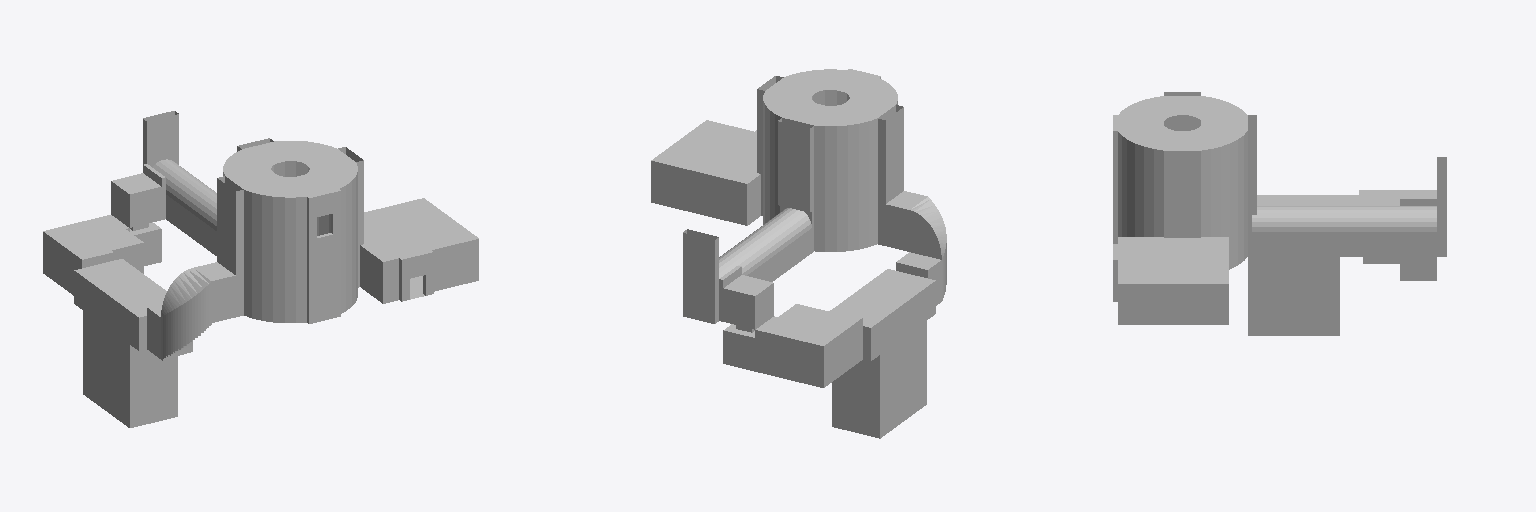
File: WellLayout.obj
The picture shows the model from 3 angles: view 1: azimuth 30°, elevation 25°; view 2: azimuth 150°, elevation 25°; view 3: azimuth 270°, elevation 25°; orthographic projection.
Parts seen in each view (by area): view 1: well_circleroom:pDisc1, well_platformingroom:pCube1, well_chessroom:pPlane1, well_stairroom:pDisc3, well_mirrorroom:pPlane1, well_pitfallroom:pPlane1, pCube1, pCube3, pCube5, gate7, gate2, pCylinder3 (+3 smaller); view 2: well_circleroom:pDisc1, well_platformingroom:pCube1, well_chessroom:pPlane1, well_mirrorroom:pPlane1, well_stairroom:pDisc3, well_pitfallroom:pPlane1, pCube2, pCube5, pCube3, well_corridor_straight:pCylinder1, pCylinder1, pCylinder2 (+2 smaller); view 3: well_circleroom:pDisc1, well_chessroom:pPlane1, well_platformingroom:pCube1, pCube4, pCylinder1, pCylinder2, pCylinder3, well_corridor_corner:pCylinder1, well_corridor_straight:pCylinder1, well_pitfallroom:pPlane1, pCube5, pCube2 (+2 smaller).
Boxes of the visible parts, x1=… form: well_circleroom:pDisc1: x1=223, y1=141, x2=357, y2=322; well_platformingroom:pCube1: x1=74, y1=259, x2=177, y2=427; well_chessroom:pPlane1: x1=360, y1=198, x2=478, y2=303; well_stairroom:pDisc3: x1=149, y1=262, x2=239, y2=360; well_mirrorroom:pPlane1: x1=43, y1=216, x2=143, y2=295; well_pitfallroom:pPlane1: x1=111, y1=173, x2=161, y2=265; pCube1: x1=307, y1=233, x2=340, y2=323; pCube3: x1=217, y1=176, x2=243, y2=274; pCube5: x1=143, y1=111, x2=178, y2=166; gate7: x1=399, y1=250, x2=433, y2=301; gate2: x1=307, y1=189, x2=340, y2=239; pCylinder3: x1=166, y1=173, x2=207, y2=231; well_circleroom:pDisc1: x1=763, y1=69, x2=897, y2=251; well_platformingroom:pCube1: x1=832, y1=269, x2=935, y2=438; well_chessroom:pPlane1: x1=651, y1=120, x2=760, y2=225; well_mirrorroom:pPlane1: x1=759, y1=304, x2=860, y2=387; well_stairroom:pDisc3: x1=882, y1=191, x2=946, y2=305; well_pitfallroom:pPlane1: x1=723, y1=275, x2=773, y2=371; pCube2: x1=778, y1=118, x2=813, y2=212; pCube5: x1=683, y1=229, x2=718, y2=323; pCube3: x1=878, y1=105, x2=903, y2=203; well_corridor_straight:pCylinder1: x1=768, y1=208, x2=811, y2=266; pCylinder1: x1=750, y1=220, x2=792, y2=279; pCylinder2: x1=731, y1=234, x2=774, y2=281; well_circleroom:pDisc1: x1=1118, y1=96, x2=1247, y2=269; well_chessroom:pPlane1: x1=1118, y1=237, x2=1228, y2=324; well_platformingroom:pCube1: x1=1248, y1=195, x2=1358, y2=335; pCube4: x1=1164, y1=151, x2=1200, y2=237; pCylinder1: x1=1289, y1=206, x2=1325, y2=256; pCylinder2: x1=1326, y1=206, x2=1362, y2=256; pCylinder3: x1=1363, y1=206, x2=1399, y2=256; well_corridor_corner:pCylinder1: x1=1400, y1=206, x2=1436, y2=256; well_corridor_straight:pCylinder1: x1=1252, y1=206, x2=1288, y2=256; well_pitfallroom:pPlane1: x1=1400, y1=190, x2=1436, y2=280; pCube5: x1=1437, y1=157, x2=1446, y2=256; pCube2: x1=1248, y1=115, x2=1256, y2=214.
Bounding box in the file's own units: 71 × 60 × 72.